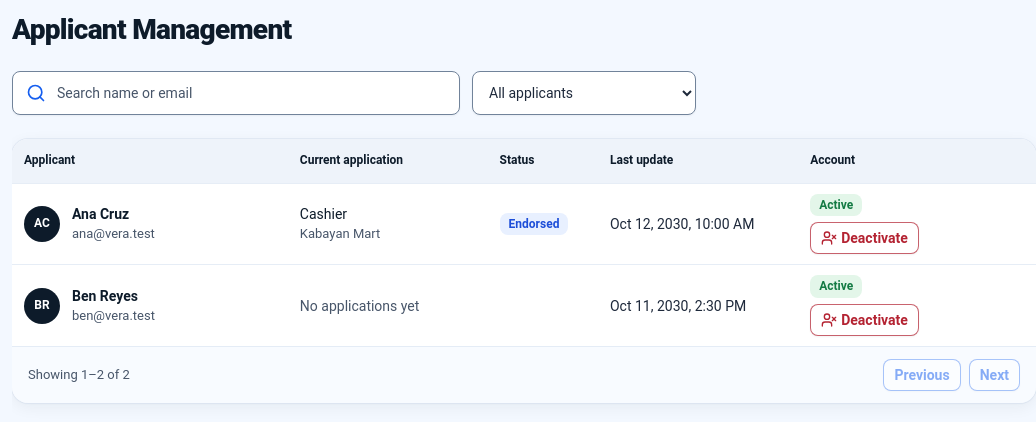
Applicant Management › shows a no-match state for a search with no results
This screenshot has width=1036, height=422.
Expected: the text "Ana Cruz" is shown, [72, 206, 129, 222]
Type "zzz" into the search field labelled "Search name or email" at (236, 93), box [12, 71, 460, 115]
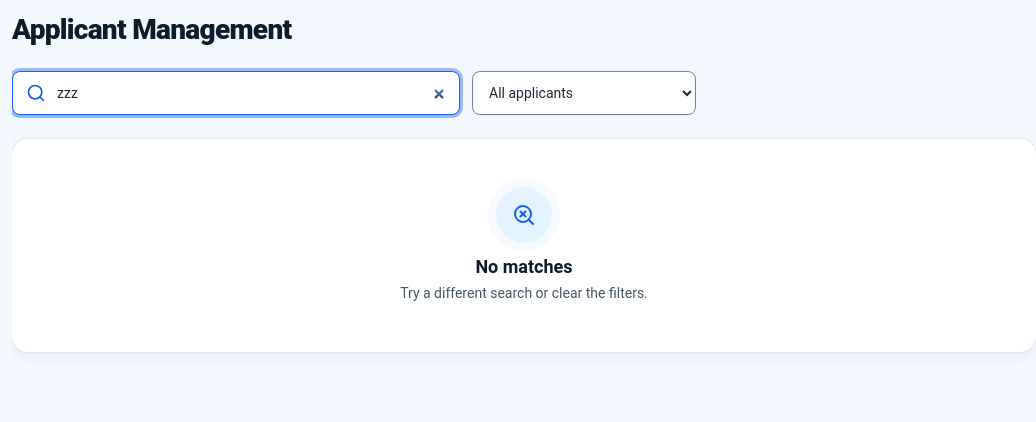
Result: the text "No matches" is shown at [475, 256, 573, 277]
Result: the text "Showing" is gone
